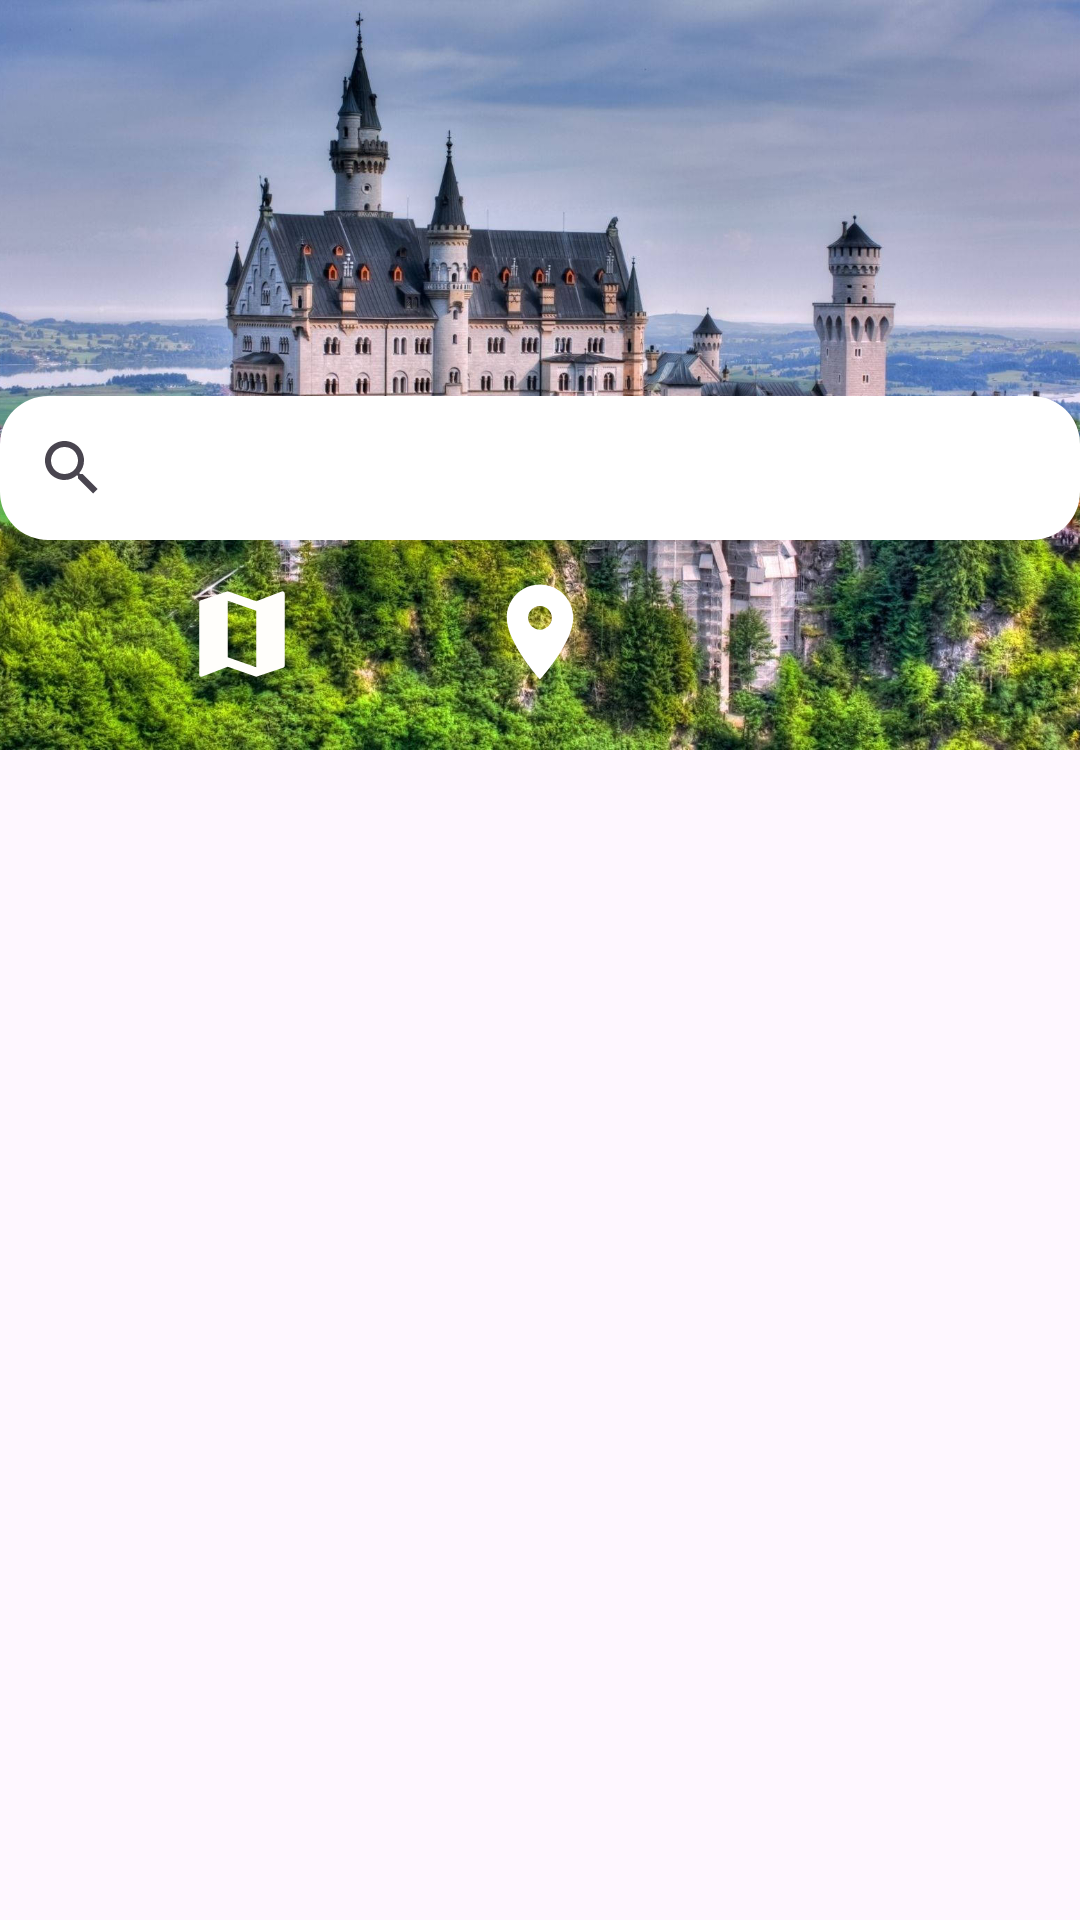

Screen size 1080px x 1920px. Icon name, then its center in pixels as (x=x, y=y):
location on: (x=540, y=632)
map: (x=242, y=634)
